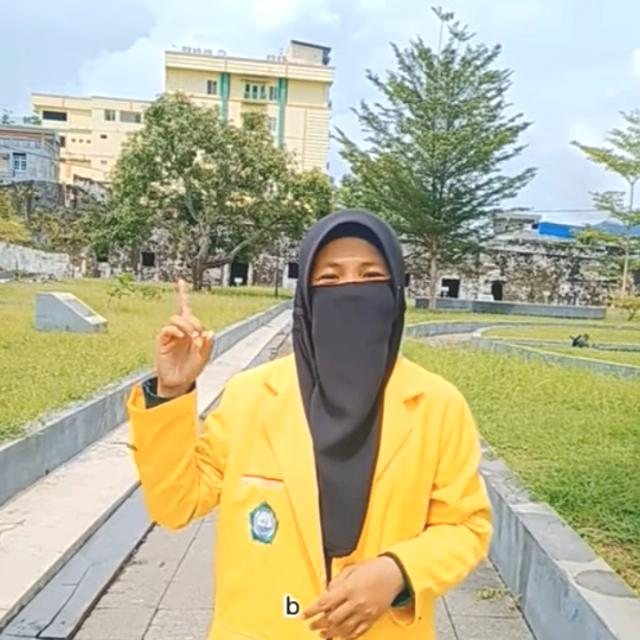D: (151, 275, 217, 395)
